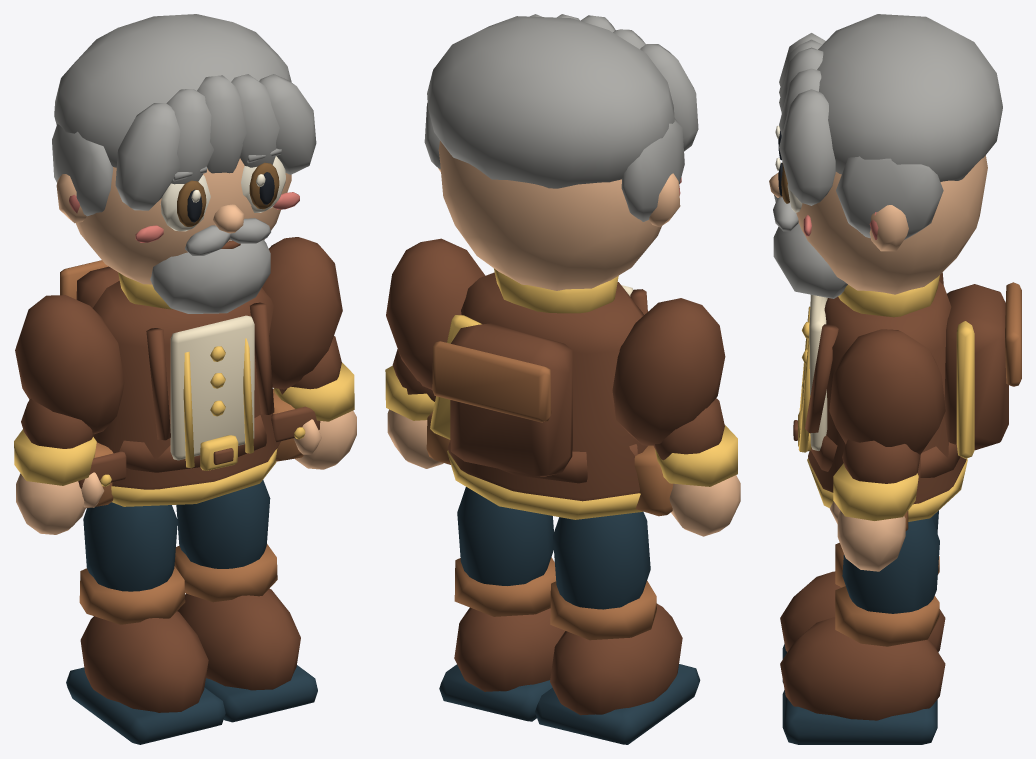
File: guildmaster.glb
The picture shows the model from 3 angles, left to right: view 1: azimuth 30°, elevation 25°; view 2: azimuth 150°, elevation 25°; view 3: azimuth 270°, elevation 25°; orthographic projection. The views are drawn at different scales.
Parts seen in each view (by area): view 1: Head_mesh, Torso_mesh, LegLeft_mesh, LegRight_mesh, ArmLeft_mesh, ArmRight_mesh; view 2: Head_mesh, Torso_mesh, LegLeft_mesh, LegRight_mesh, ArmLeft_mesh, ArmRight_mesh; view 3: Head_mesh, Torso_mesh, LegRight_mesh, ArmRight_mesh, LegLeft_mesh.
Boxes of the visible parts, x1=… form: Head_mesh: x1=52, y1=14, x2=316, y2=313; Torso_mesh: x1=60, y1=260, x2=320, y2=508; LegLeft_mesh: x1=66, y1=502, x2=225, y2=744; LegRight_mesh: x1=174, y1=480, x2=317, y2=722; ArmLeft_mesh: x1=14, y1=295, x2=124, y2=534; ArmRight_mesh: x1=262, y1=237, x2=356, y2=469; Head_mesh: x1=424, y1=14, x2=698, y2=290; Torso_mesh: x1=426, y1=268, x2=673, y2=519; LegLeft_mesh: x1=535, y1=511, x2=700, y2=744; LegRight_mesh: x1=439, y1=487, x2=565, y2=721; ArmLeft_mesh: x1=612, y1=298, x2=740, y2=536; ArmRight_mesh: x1=385, y1=238, x2=485, y2=468; Head_mesh: x1=769, y1=14, x2=1002, y2=298; Torso_mesh: x1=793, y1=275, x2=1021, y2=530; LegRight_mesh: x1=780, y1=517, x2=945, y2=744; ArmRight_mesh: x1=829, y1=329, x2=945, y2=571; LegLeft_mesh: x1=780, y1=510, x2=945, y2=683.
Bounding box in the file's own units: 1.04 × 1.97 × 0.6667.
